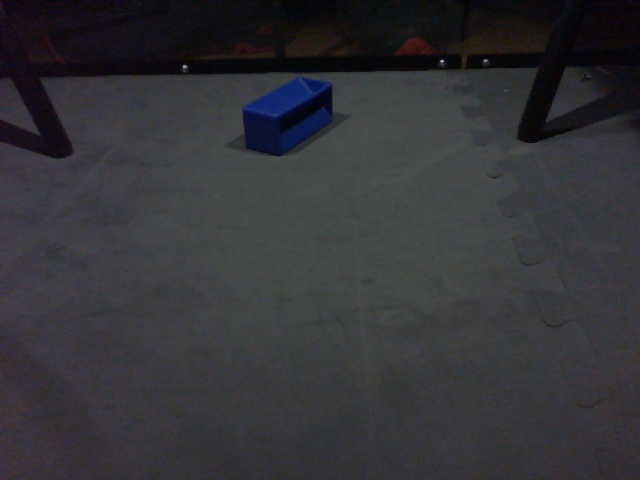BlueSample: (239, 76, 337, 158)
